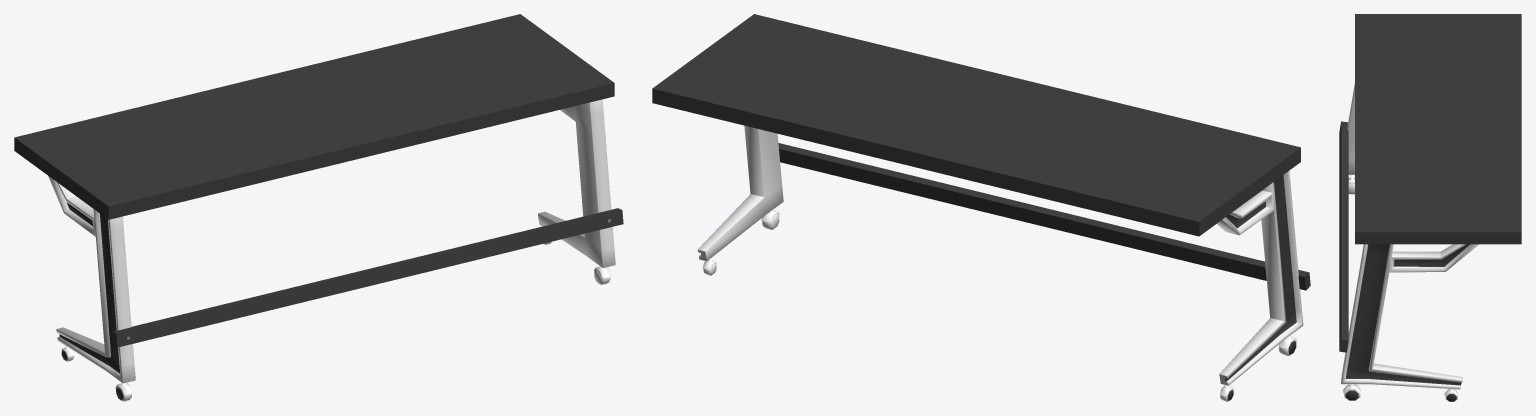
Rendered from StudentsDesk_CLEAN.fbx.
3 renders of one model, left to right at view 1: azimuth 30°, elevation 25°; view 2: azimuth 150°, elevation 25°; view 3: azimuth 270°, elevation 25°, orthographic. The views are drawn at different scales.
Visible parts, largest first — view 1: StudentsDesk_CLEAN; view 2: StudentsDesk_CLEAN; view 3: StudentsDesk_CLEAN.
Part boxes in pixels (box(x1,y1,x2,y2)): StudentsDesk_CLEAN: box(14, 14, 623, 401); StudentsDesk_CLEAN: box(652, 14, 1310, 401); StudentsDesk_CLEAN: box(1339, 14, 1521, 401).
Size of the model in its own units: 250 by 93.11 by 88.24.
